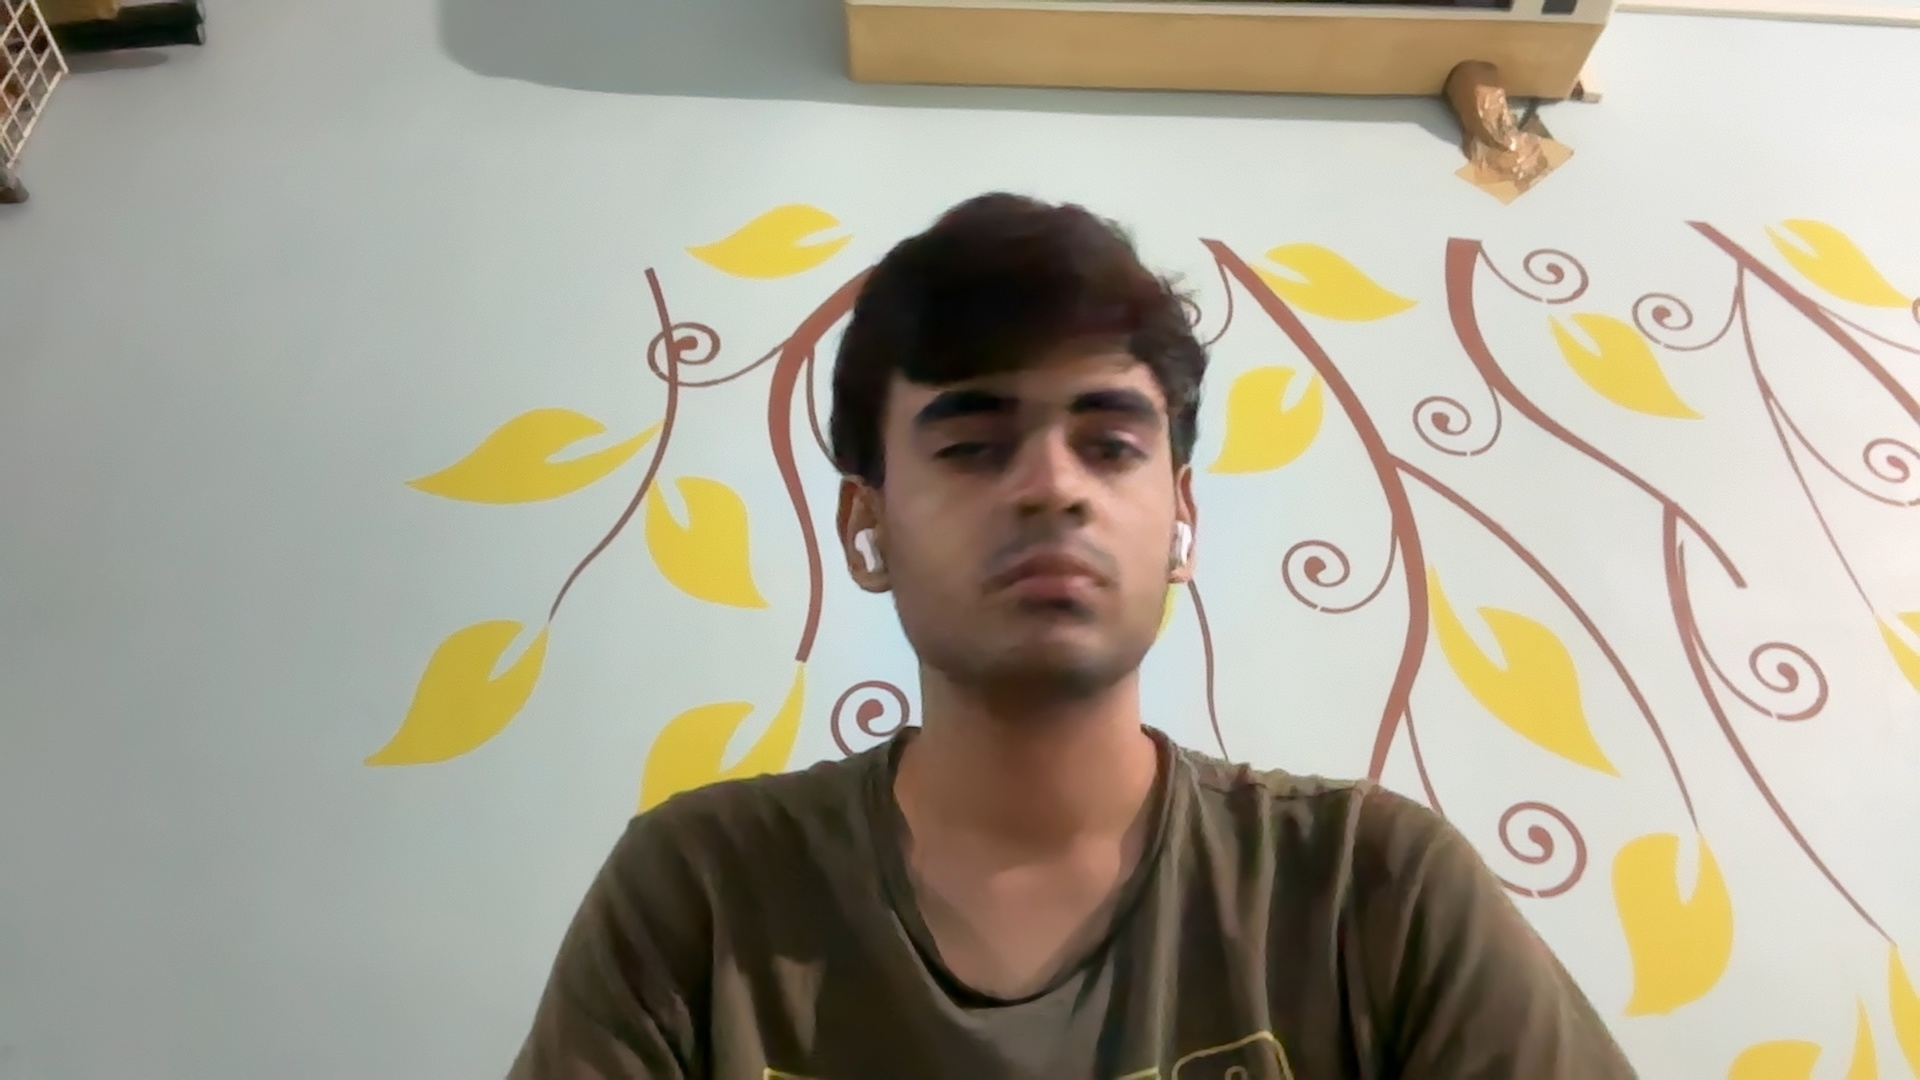No Mask: (889, 488, 1170, 692)
